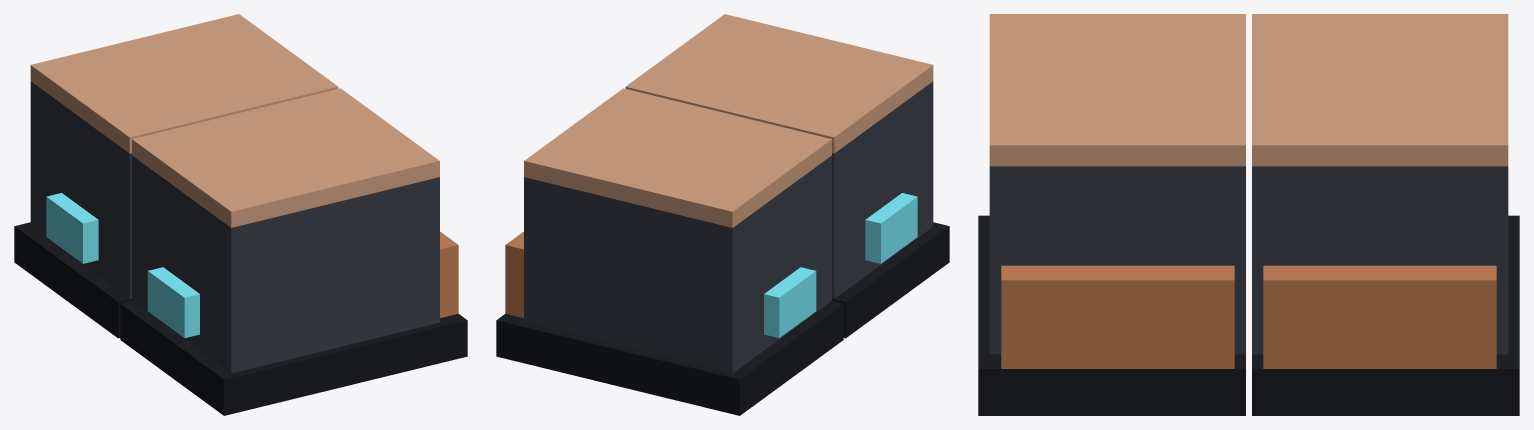
Rendered from armor_boots.glb.
3 renders of one model, left to right at view 1: azimuth 30°, elevation 25°; view 2: azimuth 150°, elevation 25°; view 3: azimuth 270°, elevation 25°, orthographic. The views are drawn at different scales.
Parts seen in each view (by area): view 1: leg_y-.001, leg_y+.001; view 2: leg_y+.001, leg_y-.001; view 3: leg_y+.001, leg_y-.001.
Part boxes in pixels (x1,y1,x2,y2): leg_y-.001: (120,88,467,415); leg_y+.001: (14,14,338,338); leg_y+.001: (496,88,843,415); leg_y-.001: (625,14,949,338); leg_y+.001: (1252,14,1519,415); leg_y-.001: (978,14,1245,415).
Bounding box in the file's own units: 0.4 × 0.3062 × 0.5875.
